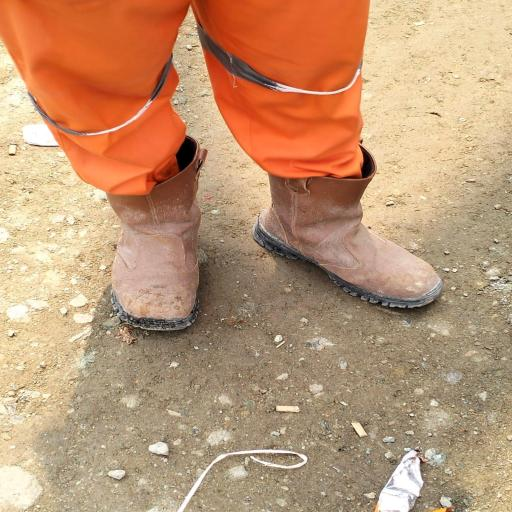safety_shoe: (253, 162, 449, 309), (88, 130, 215, 328)
